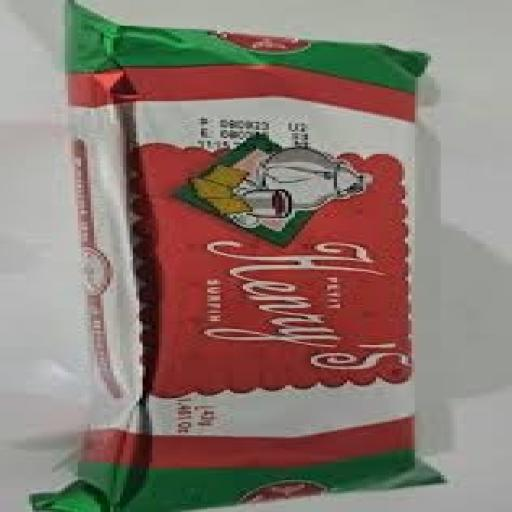golden: (55, 0, 512, 504)
